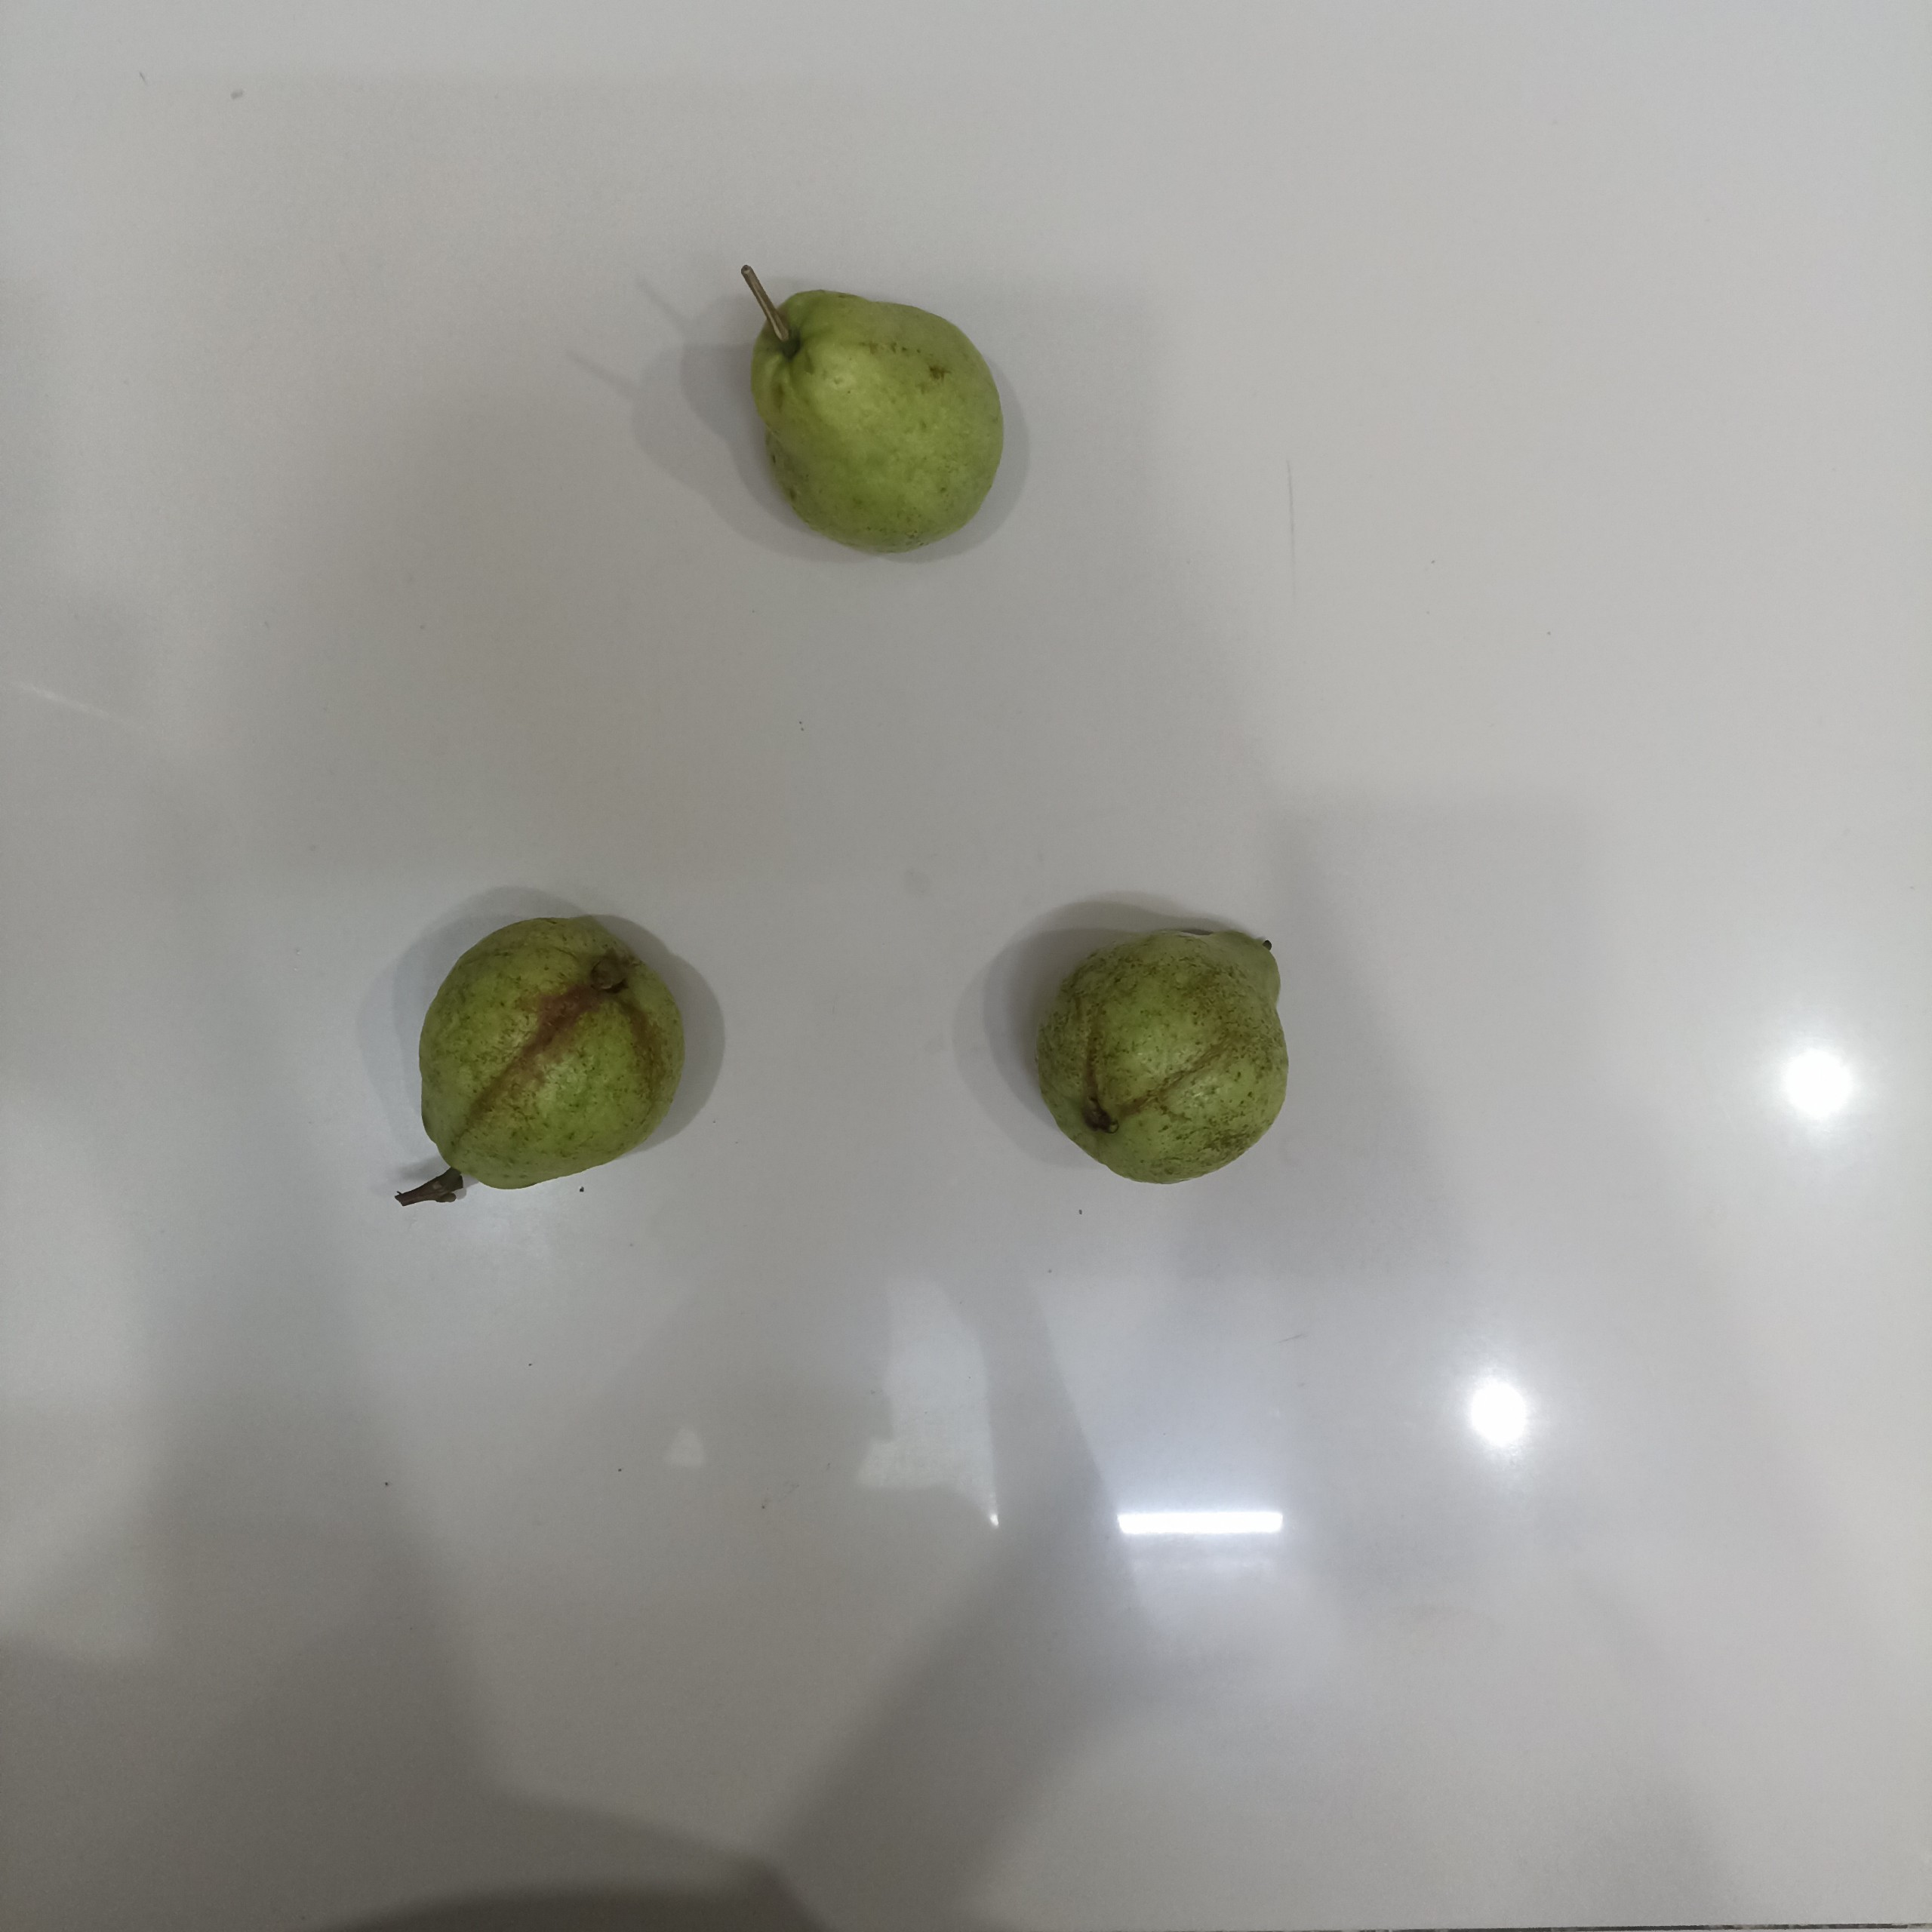Oi: (416, 909, 685, 1194), (745, 287, 1010, 556), (1040, 924, 1295, 1185)
